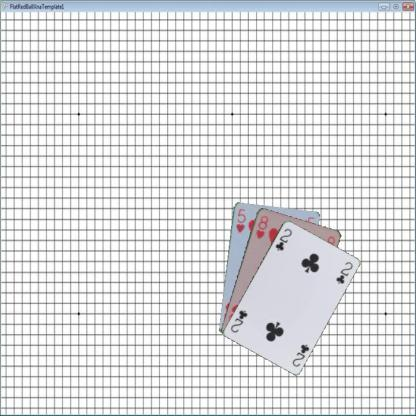2c: (273, 226, 293, 252), (290, 342, 310, 368)
5h: (233, 206, 247, 234)
8h: (254, 212, 269, 240)
